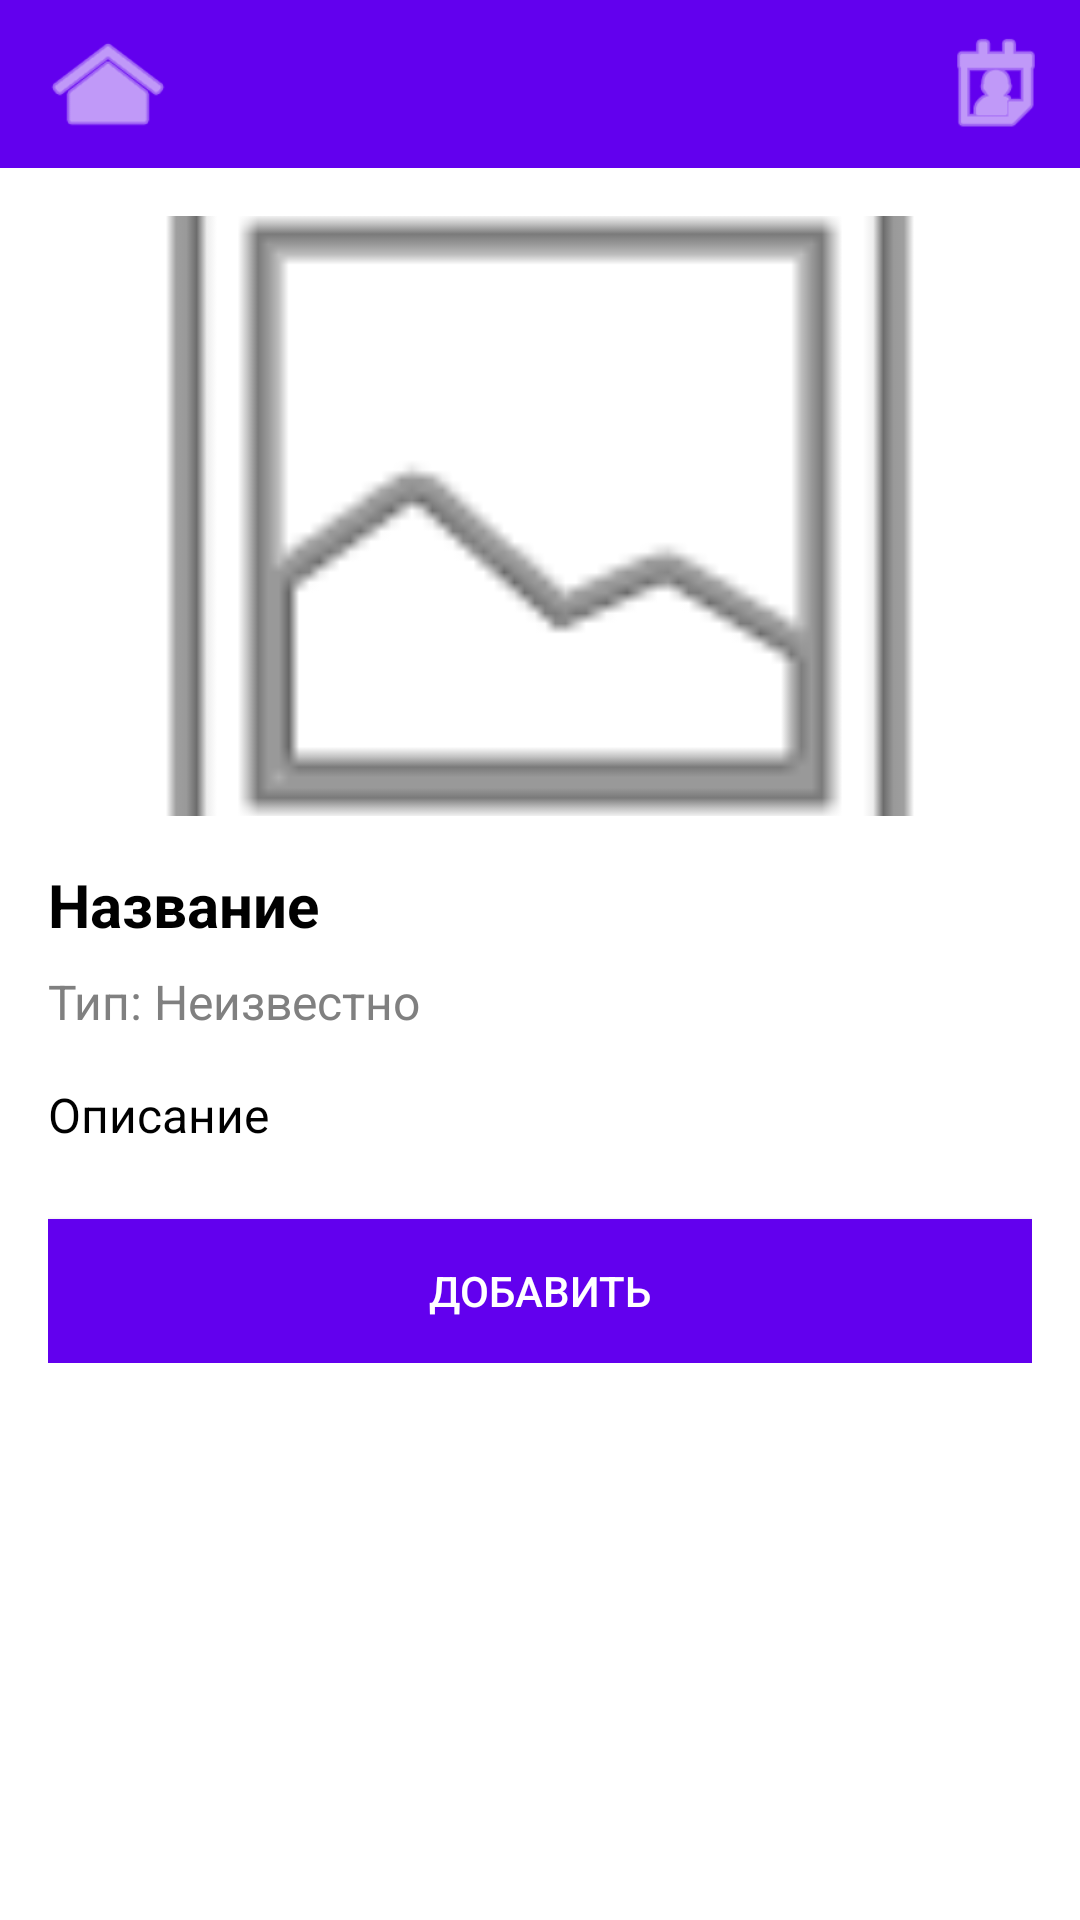

Where to tap for icons on this 1080w x 1920h app screen, as (x=x, y=y):
calendar: (x=996, y=83)
home: (x=108, y=84)
